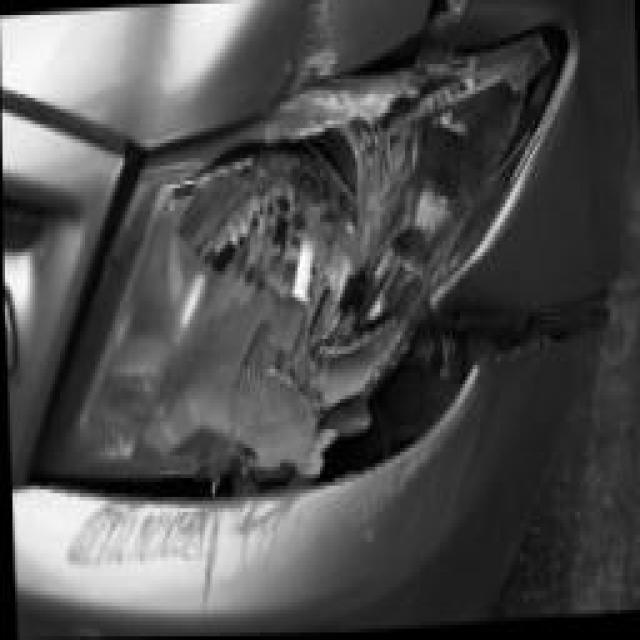Bumper: (31, 319, 594, 621)
Light: (31, 35, 566, 494)
